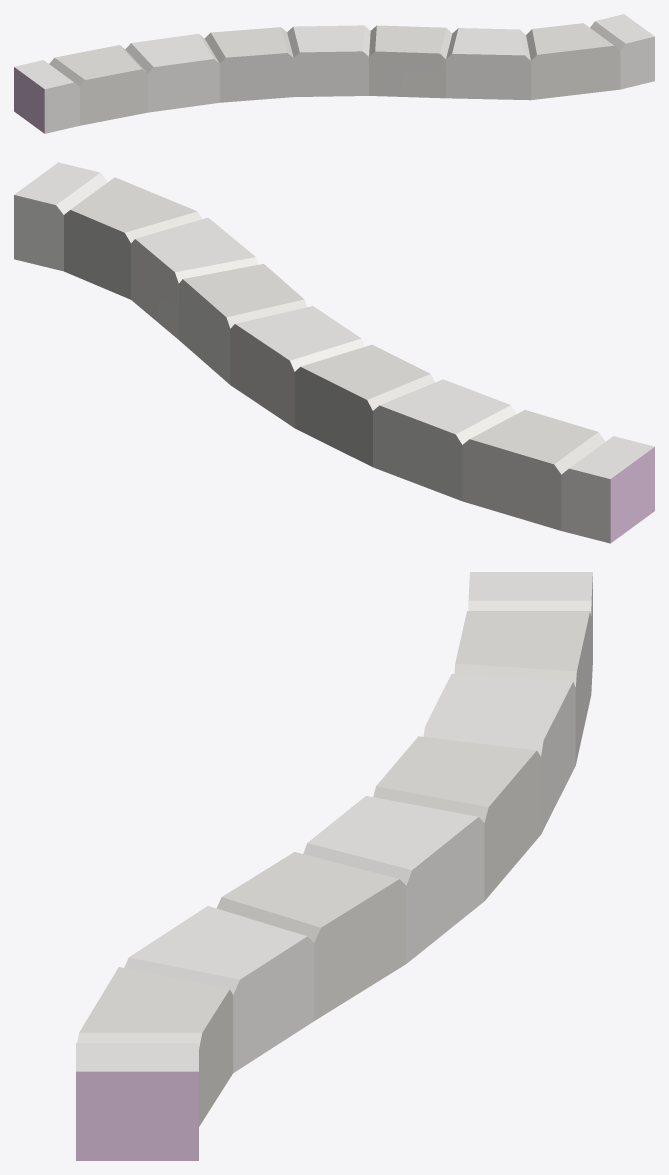
Rendered from Path_Edging_Stones_Esse_2x3.glb.
3 renders of one model, top to bottom at view 1: azimuth 30°, elevation 25°; view 2: azimuth 150°, elevation 25°; view 3: azimuth 270°, elevation 25°, orthographic. The views are drawn at different scales.
Parts seen in each view (by area): view 1: Path_Edging_Stones_Esse_2x3; view 2: Path_Edging_Stones_Esse_2x3; view 3: Path_Edging_Stones_Esse_2x3.
Boxes of the visible parts, left/top/right/bottom form: Path_Edging_Stones_Esse_2x3: left=14, top=14, right=654, bottom=133; Path_Edging_Stones_Esse_2x3: left=14, top=162, right=654, bottom=543; Path_Edging_Stones_Esse_2x3: left=76, top=572, right=592, bottom=1160.
Bounding box in the file's own units: 300 × 25 × 131.
